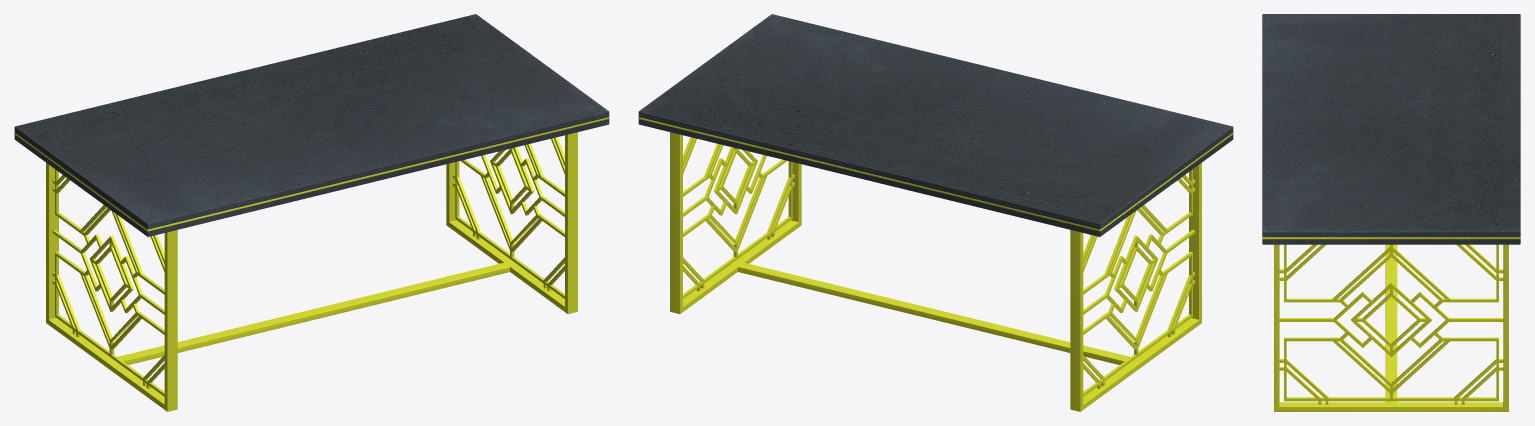
The model's file is GATSBYstol.gltf.
3 renders of one model, left to right at view 1: azimuth 30°, elevation 25°; view 2: azimuth 150°, elevation 25°; view 3: azimuth 270°, elevation 25°, orthographic. The views are drawn at different scales.
Visible parts, largest first — view 1: Box58; view 2: Box58; view 3: Box58.
Boxes of the visible parts, x1,y1,x2,y2 form: Box58: [14, 14, 609, 411]; Box58: [638, 14, 1233, 411]; Box58: [1262, 14, 1520, 411].
Size of the model in its own units: 0.1028 by 0.0422 by 0.0514.
Materials: 2 (1 with a texture image).
